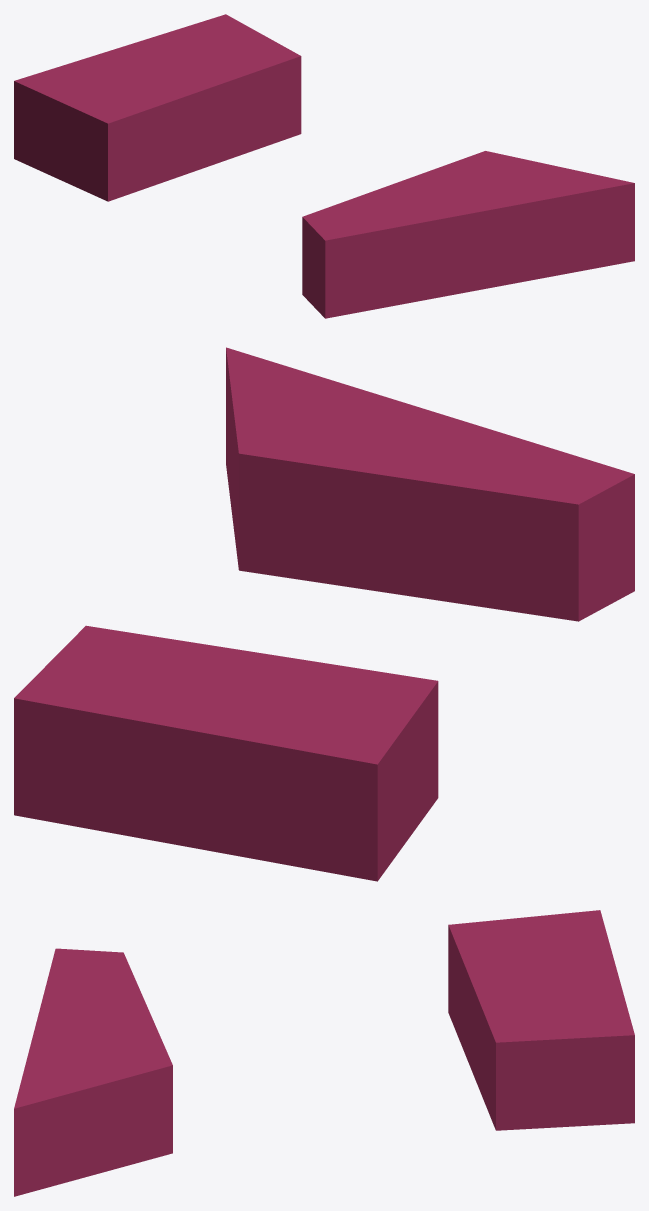
File: mergeme_cluster_mairie_its_done.max.fbx
3 views of the same model, one above another, from view 1: azimuth 30°, elevation 25°; view 2: azimuth 150°, elevation 25°; view 3: azimuth 270°, elevation 25° (orthographic). The views are drawn at different scales.
Visible parts, largest first — view 1: cluster_127, cluster_113; view 2: cluster_113, cluster_127; view 3: cluster_113, cluster_127.
Part boxes in pixels (x1,y1,x2,y2): cluster_127: (302,151,634,318); cluster_113: (14,14,301,201); cluster_113: (14,625,438,881); cluster_127: (226,347,634,621); cluster_113: (448,910,634,1130); cluster_127: (14,948,172,1196).
Bounding box in the file's own units: 59.33 × 12.26 × 78.34.
